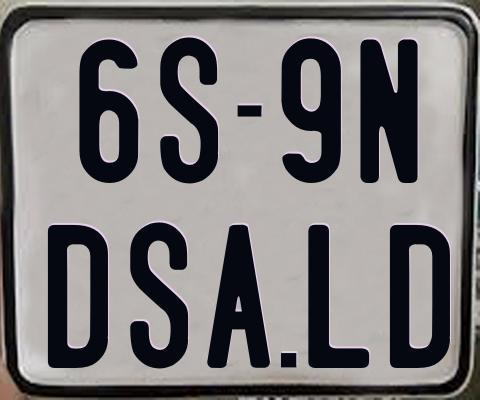6: (78, 39, 139, 188)
9: (281, 36, 344, 182)
A: (206, 225, 270, 368)
D: (47, 222, 108, 371), (388, 224, 449, 372)
L: (305, 222, 371, 369)
N: (358, 39, 417, 188)
S: (160, 34, 219, 183), (129, 219, 187, 368)
